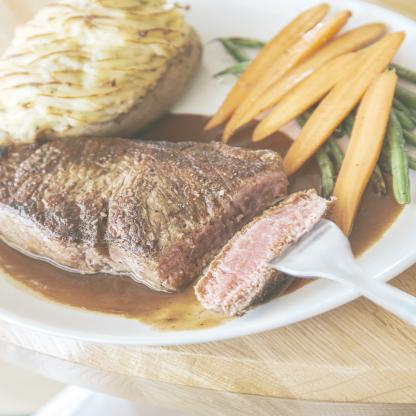Carne: (0, 137, 282, 295)
